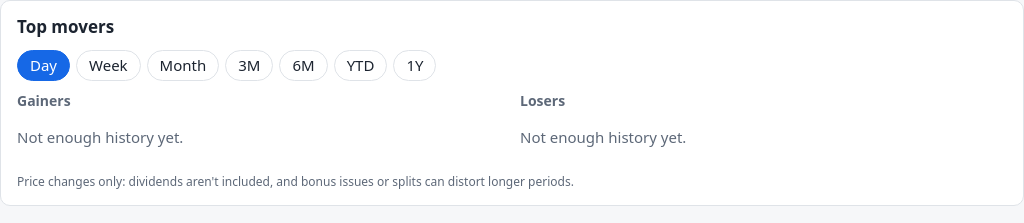
MoversPanel longer periods › has a tab for every period and shows that period's lists
What coordinates should you click on to do the following:
click the tab "YTD"
I would click on:
 (360, 66)
Its box is x1=334 y1=50 x2=387 y2=81.
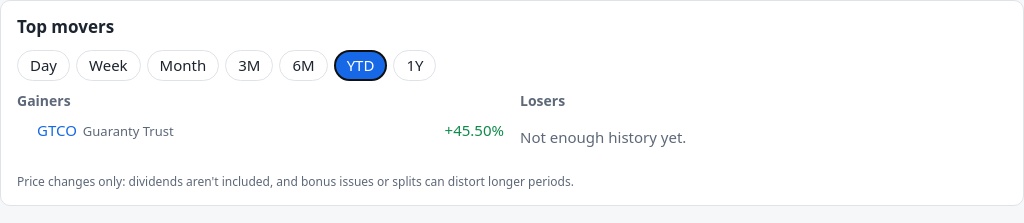
Result: the link "GTCO" is shown at x1=37 y1=120 x2=77 y2=142
Result: the text "+45.50%" is shown at x1=445 y1=120 x2=504 y2=142
